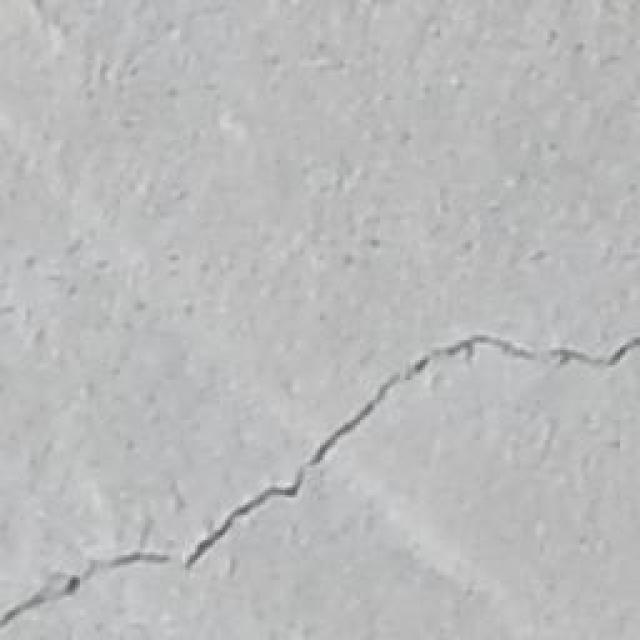concrete-crack: (6, 330, 638, 632)
